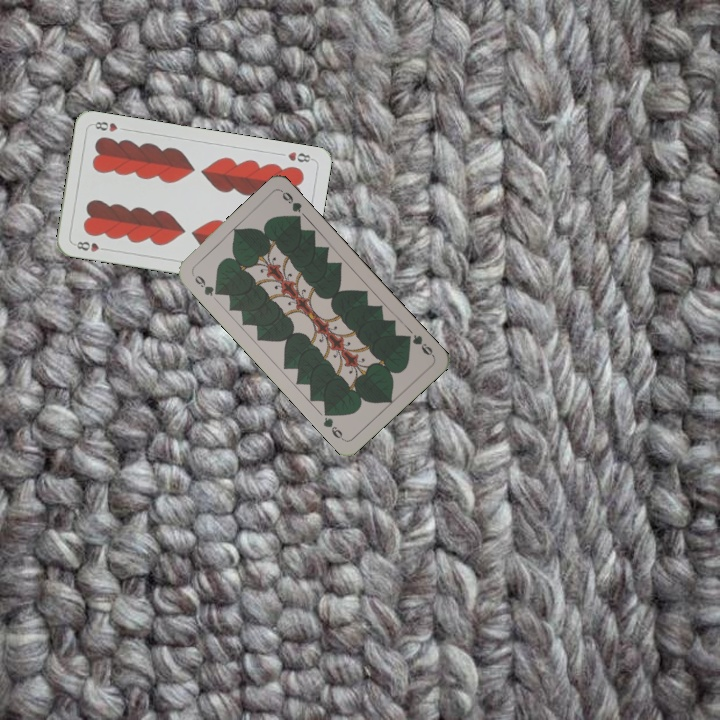G9: (188, 270, 223, 299), (401, 331, 437, 359)
H8: (70, 237, 111, 255), (284, 148, 316, 165)
